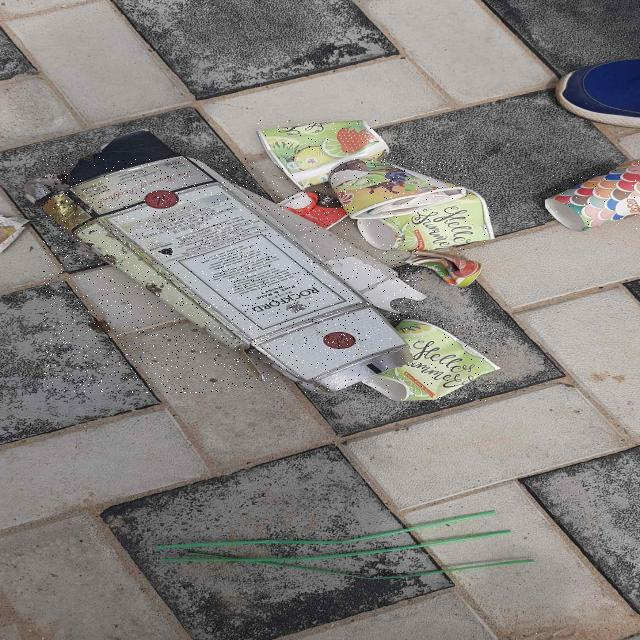paper: (42, 157, 423, 393), (362, 320, 498, 401), (257, 120, 388, 188), (329, 159, 466, 219), (357, 190, 494, 250), (545, 160, 639, 230)
